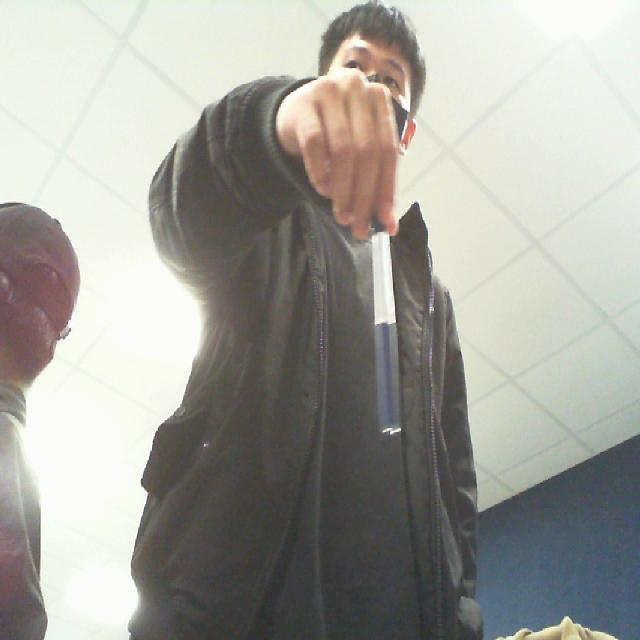Pen: (358, 197, 419, 474)
